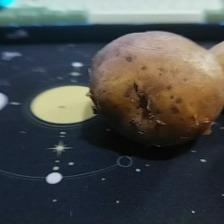Damaged potato: (85, 26, 224, 149)
